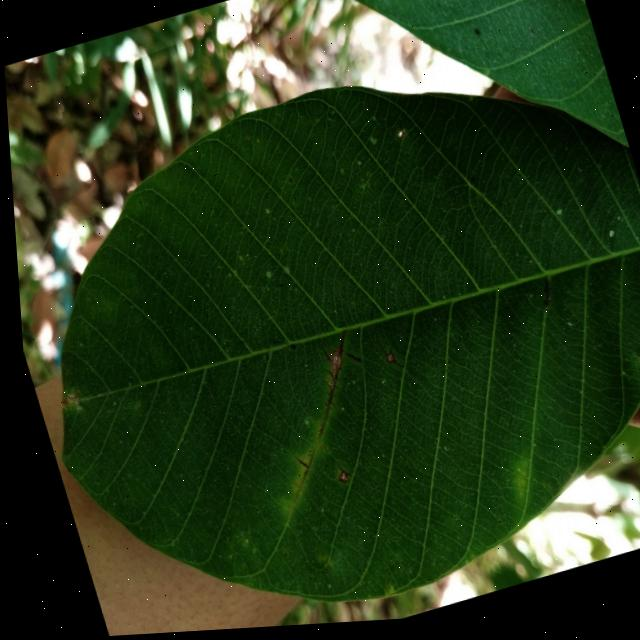Corynespora: (258, 333, 375, 483), (367, 331, 399, 377), (324, 465, 345, 489), (339, 353, 357, 370)
